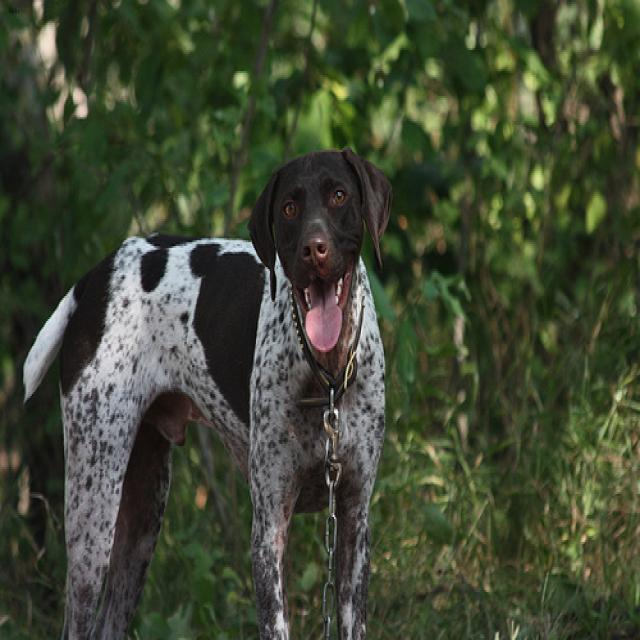dog-german_shorthaired: (9, 135, 402, 636)
